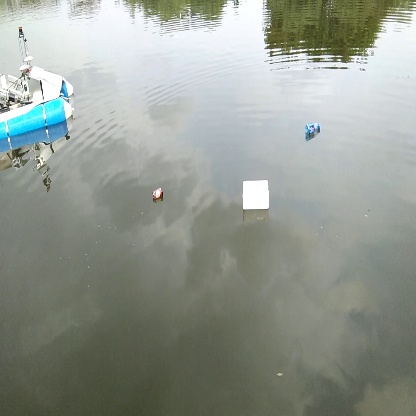bottle: (301, 119, 326, 136), (151, 185, 166, 205)
plastic-garbage: (240, 178, 272, 211)
